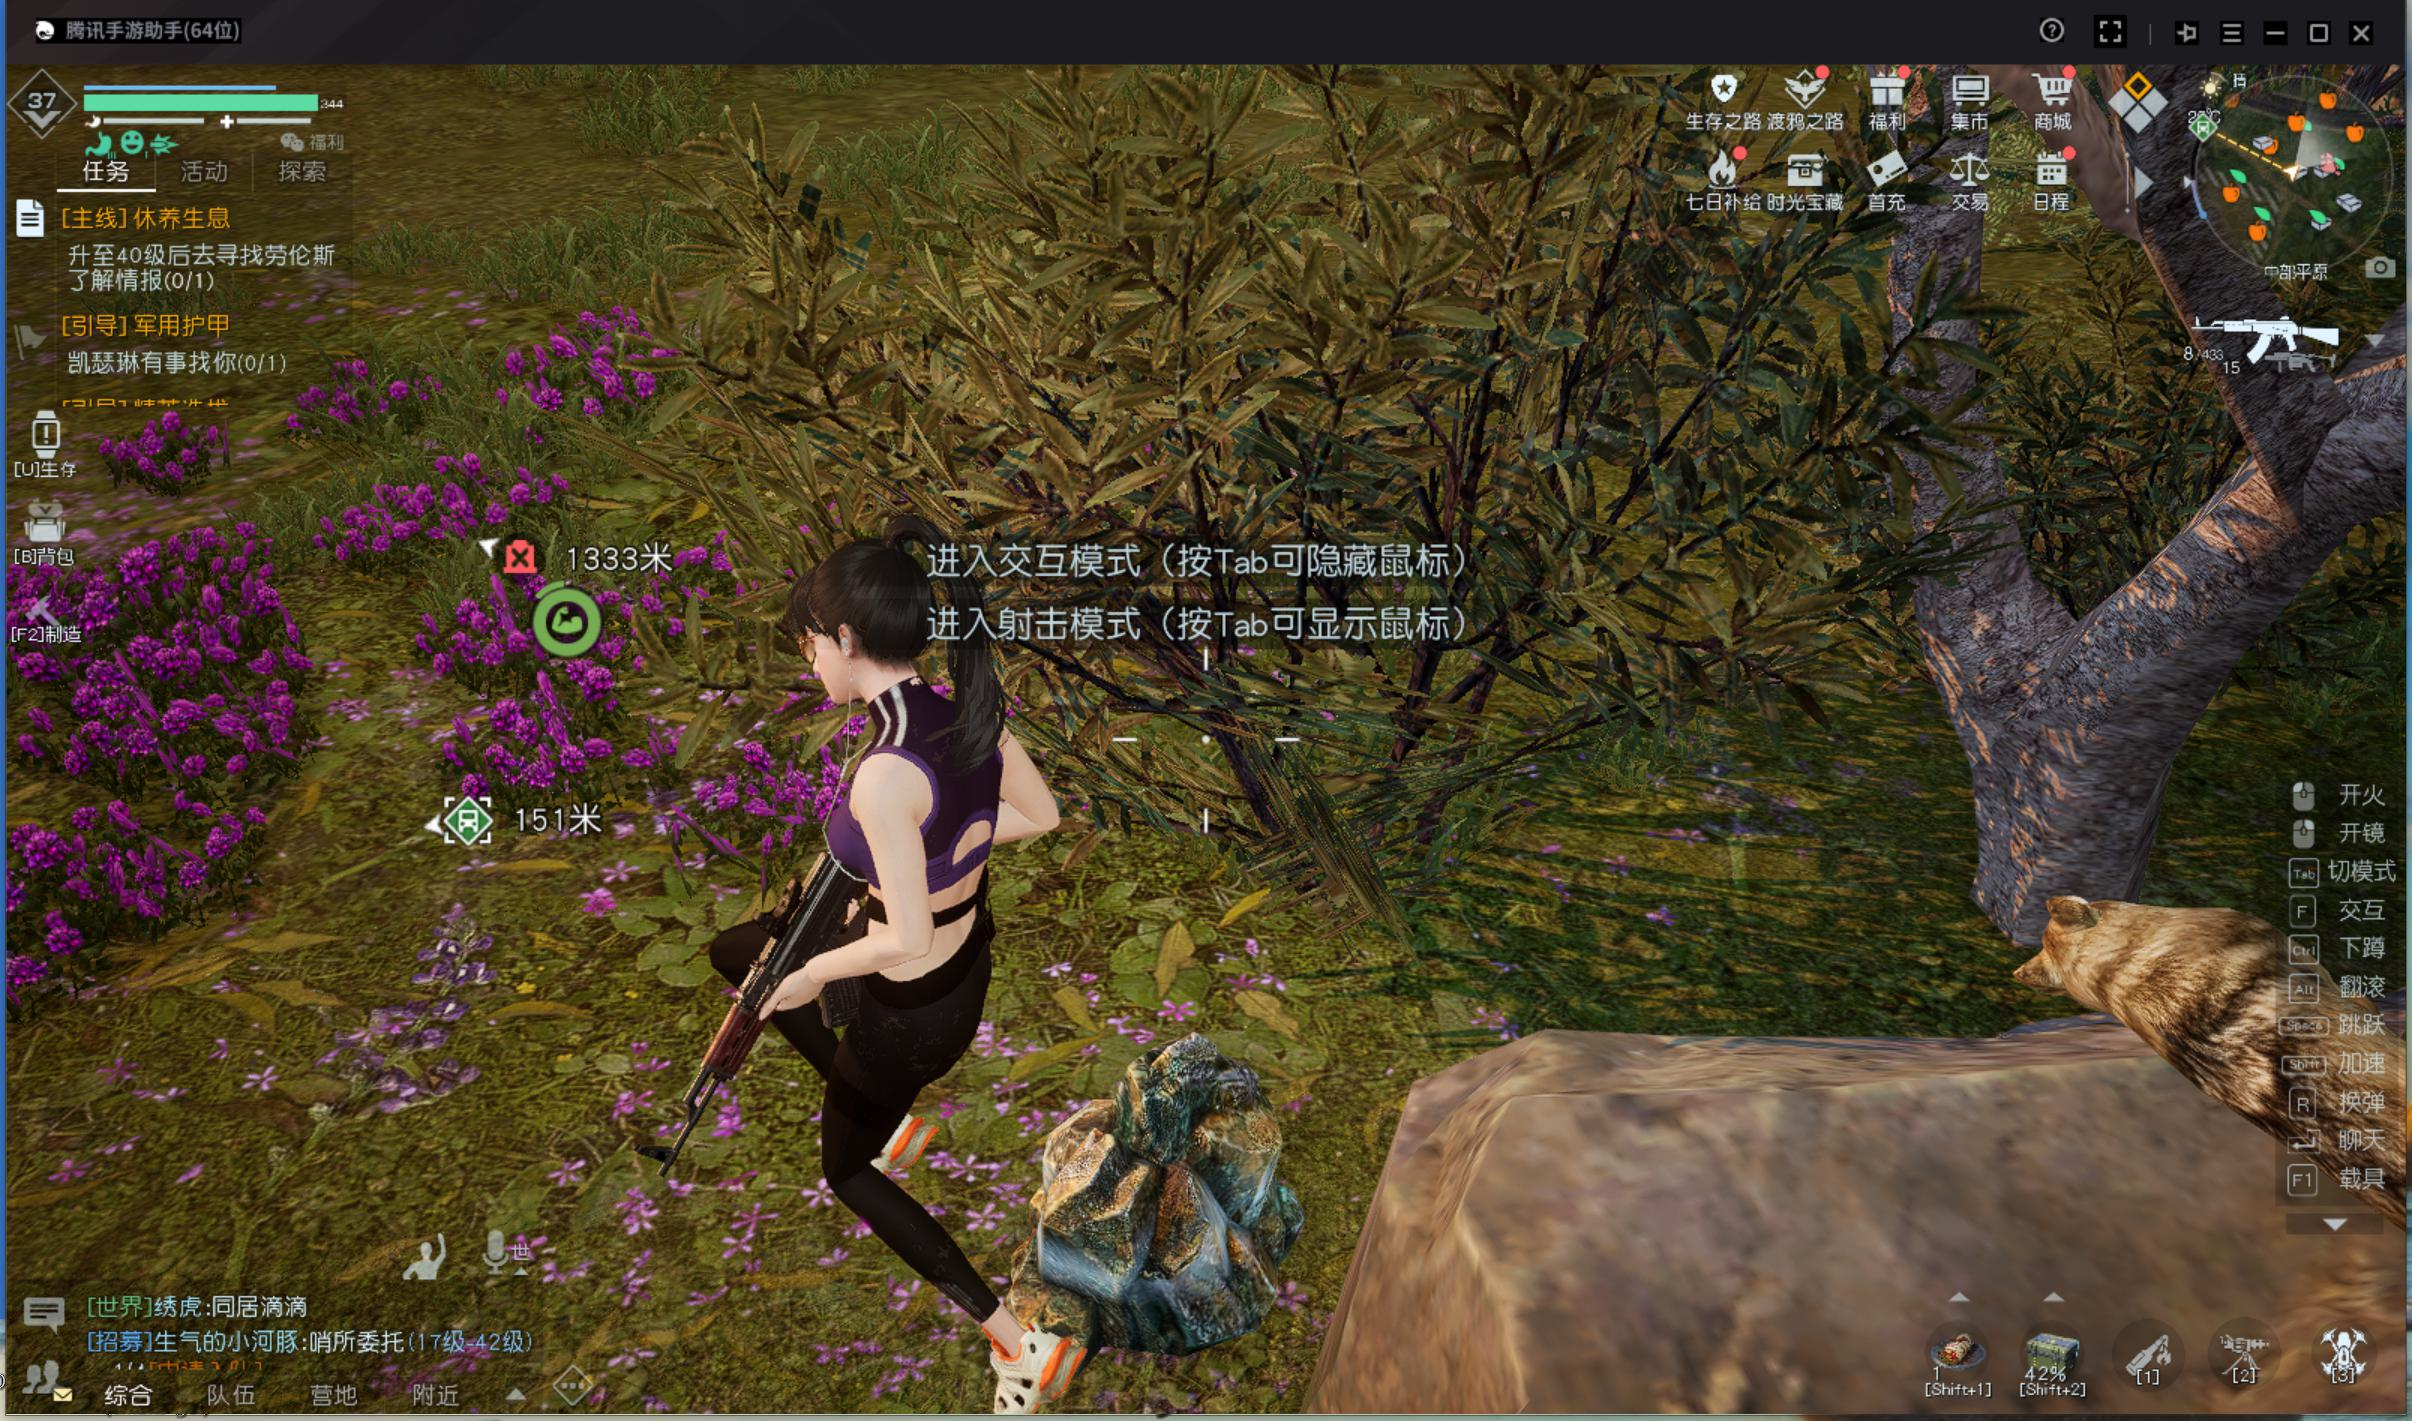stone: (1018, 1023, 1318, 1357)
